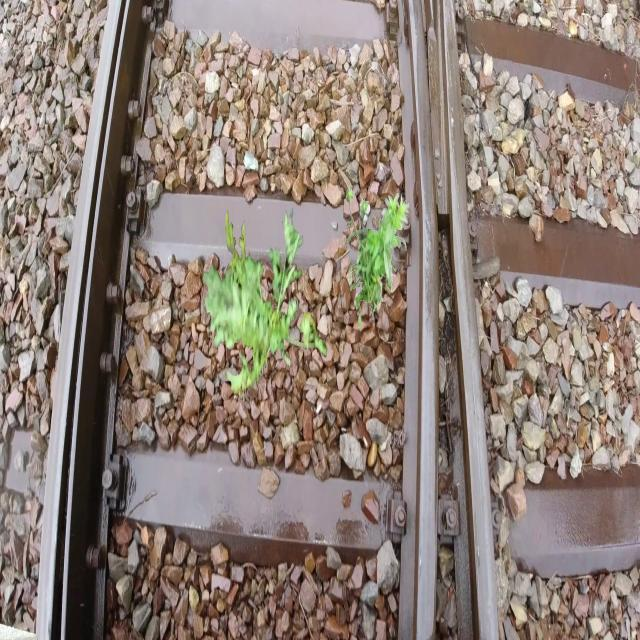Plant: (203, 207, 328, 403), (345, 185, 410, 328)
